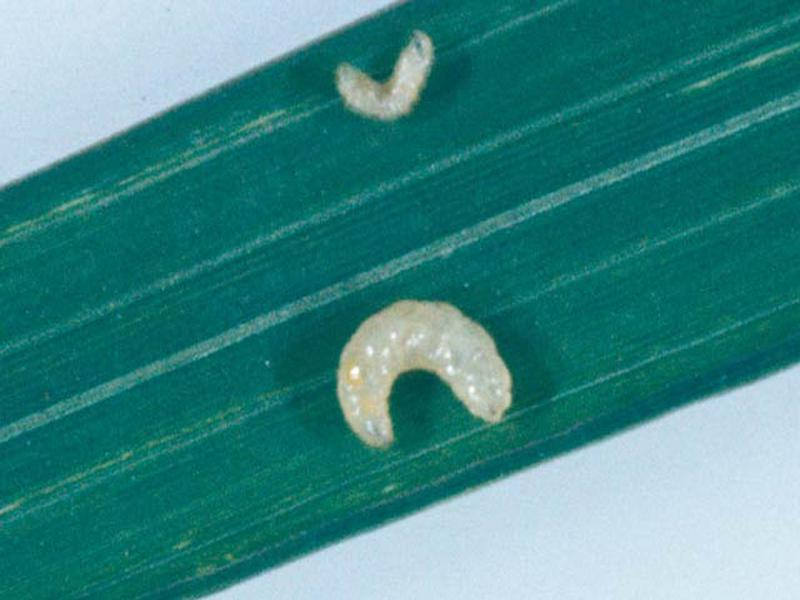Whorl_maggot: (327, 293, 517, 452), (326, 24, 448, 130)
